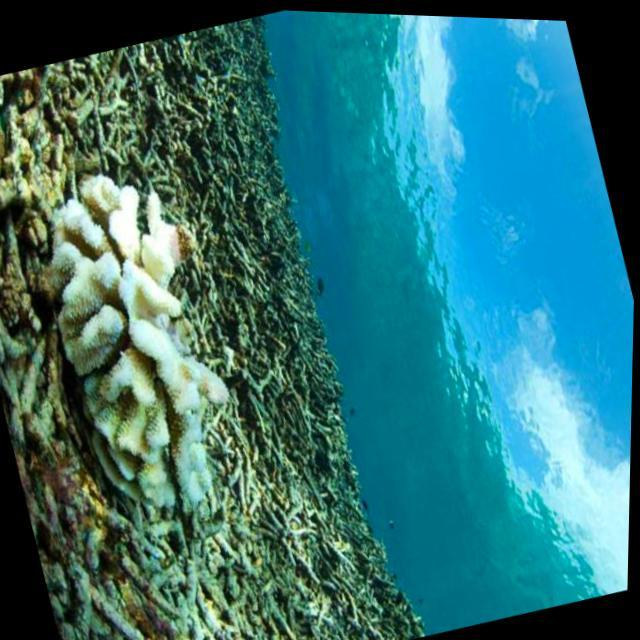Dead Coral: (135, 15, 427, 640), (38, 496, 290, 640), (0, 39, 162, 217), (0, 206, 95, 469)
